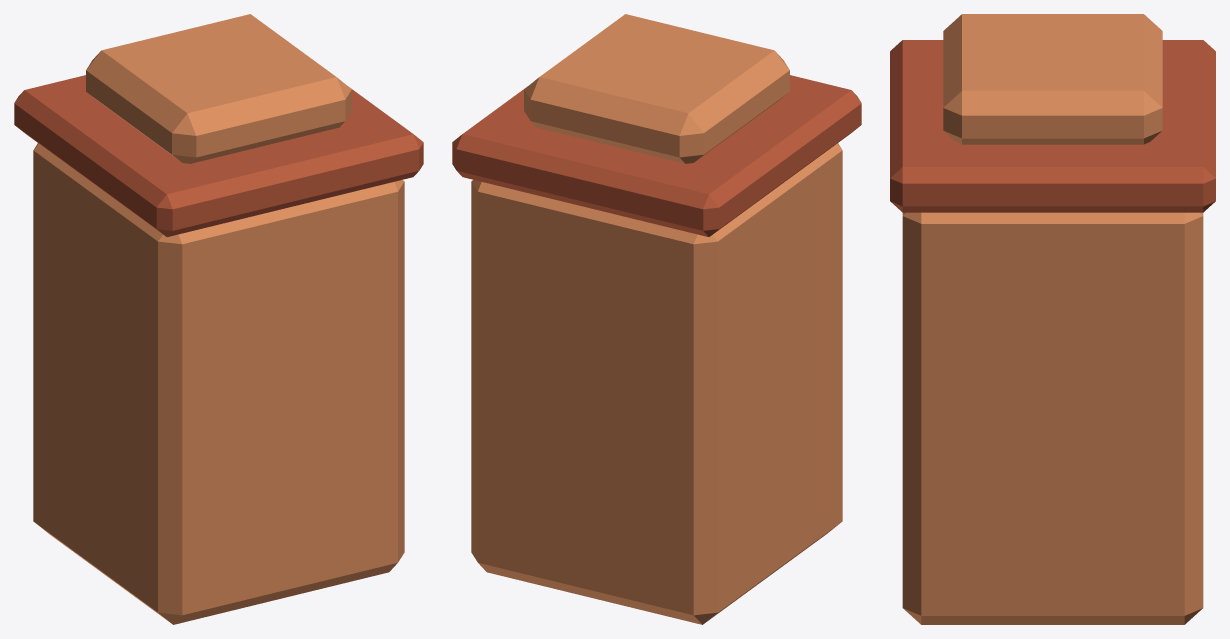
File: WallCorner_Canyon.fbx
The picture shows the model from 3 angles, left to right: view 1: azimuth 30°, elevation 25°; view 2: azimuth 150°, elevation 25°; view 3: azimuth 270°, elevation 25°; orthographic projection. The views are drawn at different scales.
Visible parts, largest first — view 1: WallCorner_Canyon; view 2: WallCorner_Canyon; view 3: WallCorner_Canyon.
Part boxes in pixels (x1,y1,x2,y2): WallCorner_Canyon: [14, 14, 423, 624]; WallCorner_Canyon: [452, 14, 861, 624]; WallCorner_Canyon: [890, 14, 1215, 624].
Bounding box in the file's own units: 1.04 × 1.82 × 1.04.
